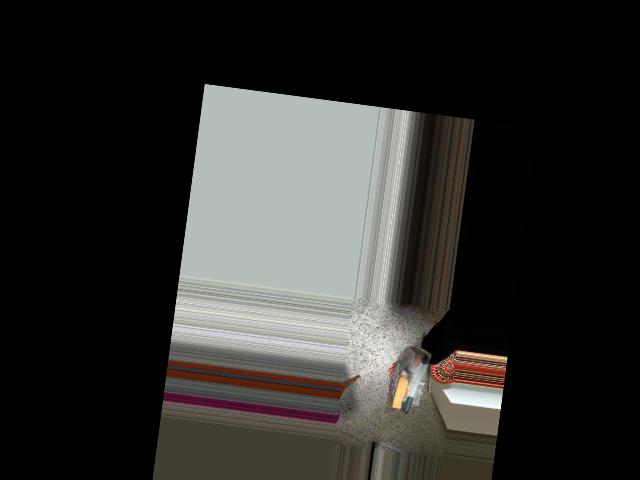cheese: (385, 344, 434, 416)
